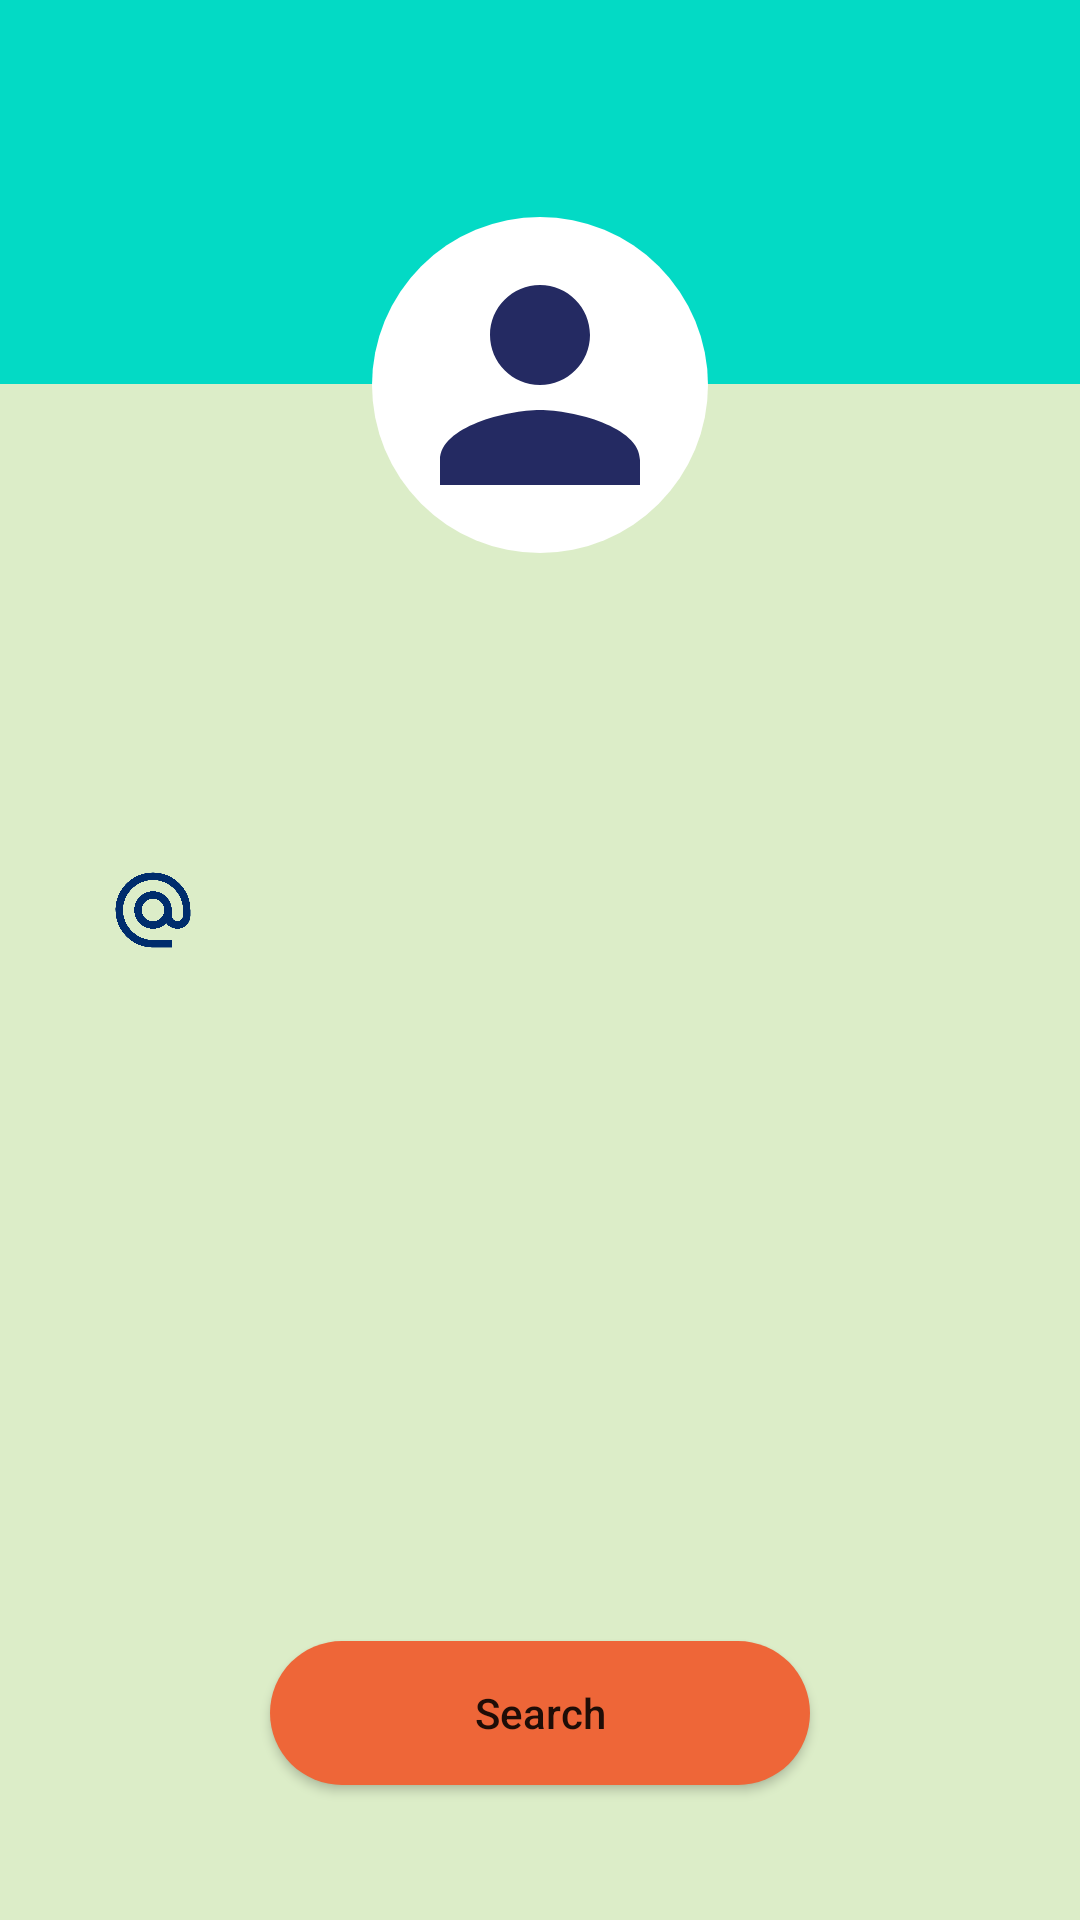

Icons on this 1080x1920 Android screen, each with the point to tap as (x,y):
email: (153,910)
profile singular: (540,385)
